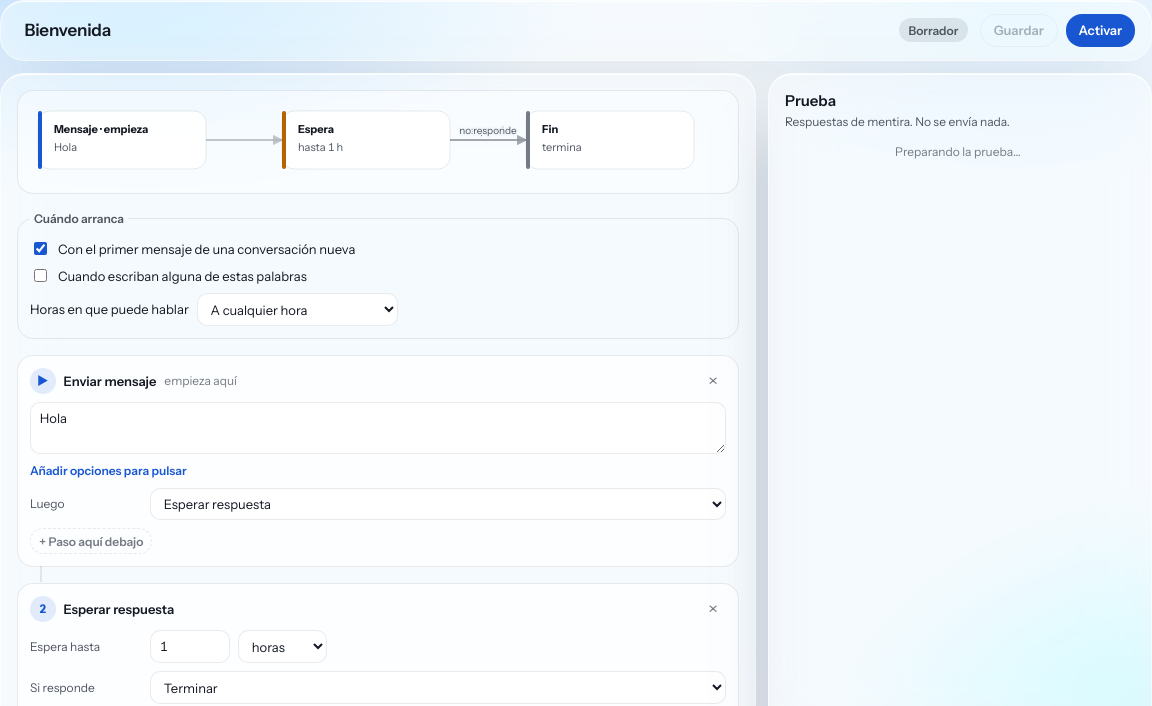
it: EditorDeFlujo › insertar un paso lo engancha entre el actual y su siguiente
Check: the text box showing "Hola" is shown, box [30,402,726,454]
Click the button "+ Paso aquí debajo". click: [91, 541]
box: [30,528,152,554]
(page scrolled)
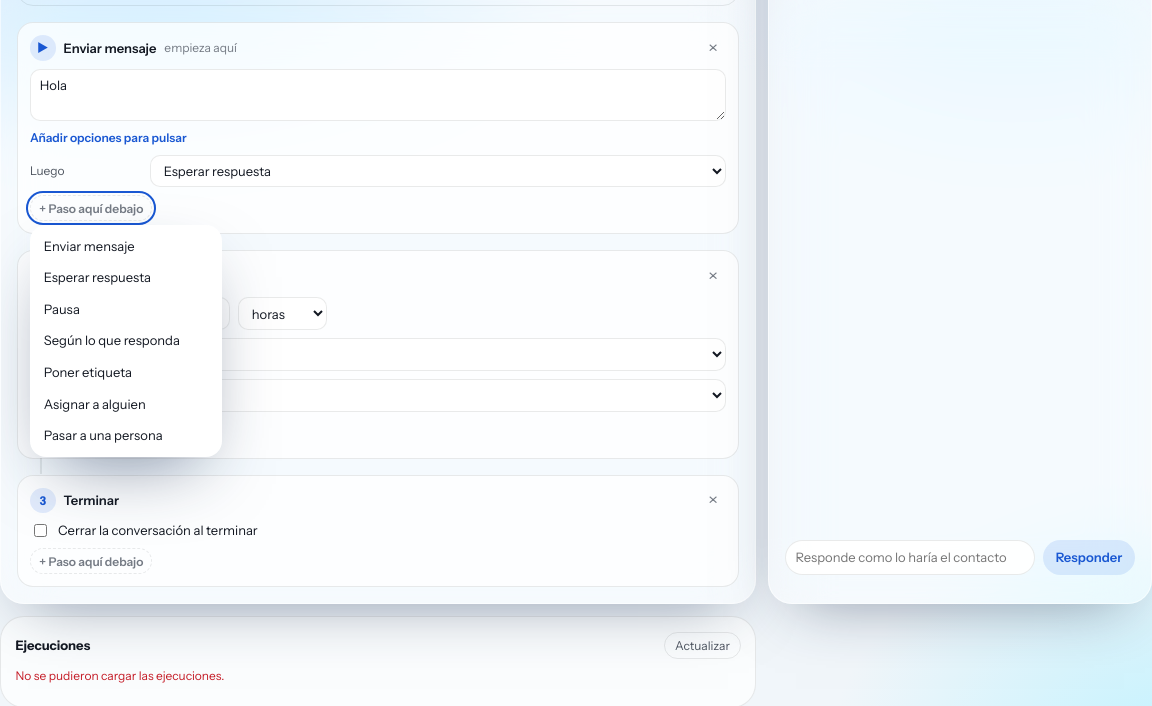
Click the menu item "Poner etiqueta". click: [126, 372]
box: [35,357,217,388]
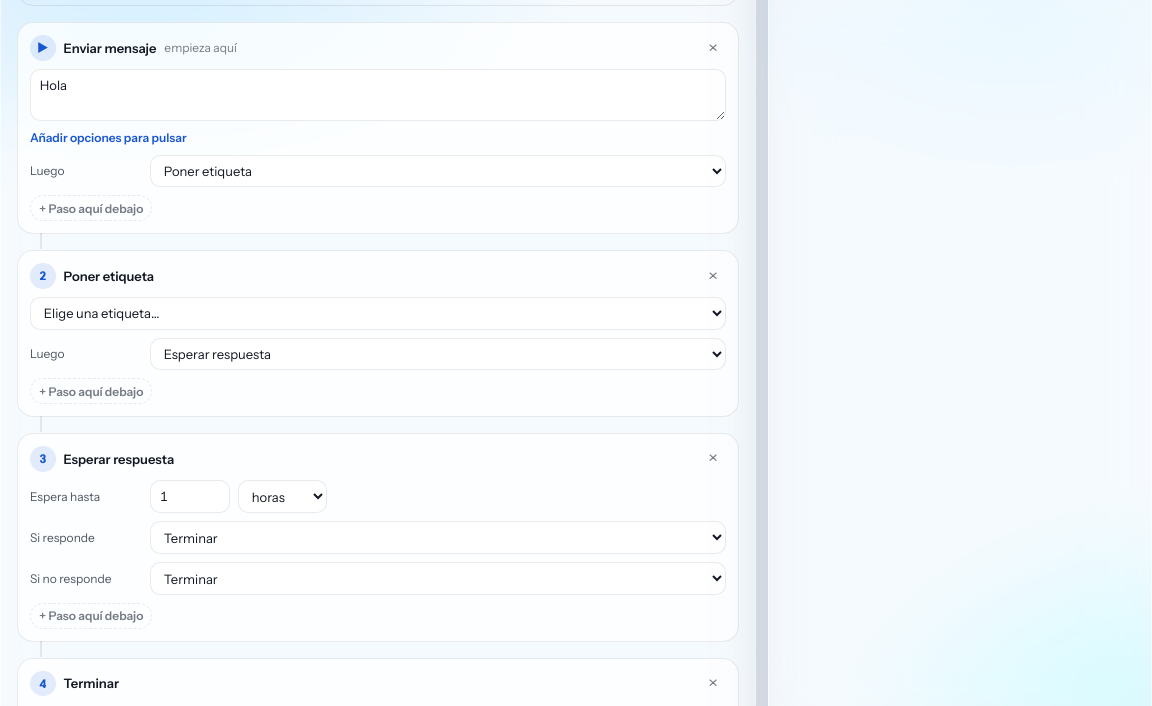
Check: the dropdown labelled "Luego" below "Enviar mensaje" shows "Poner etiqueta", box [150,155,726,188]
